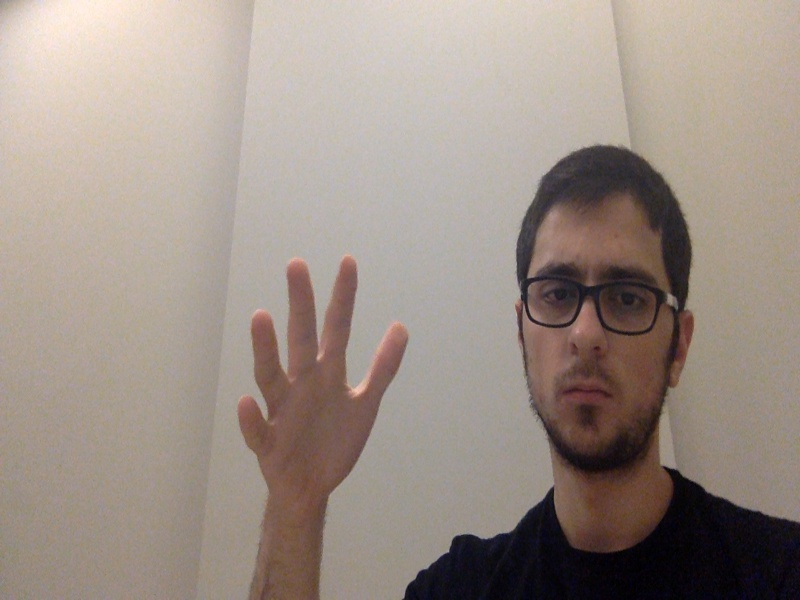5-hand: (233, 253, 412, 500)
